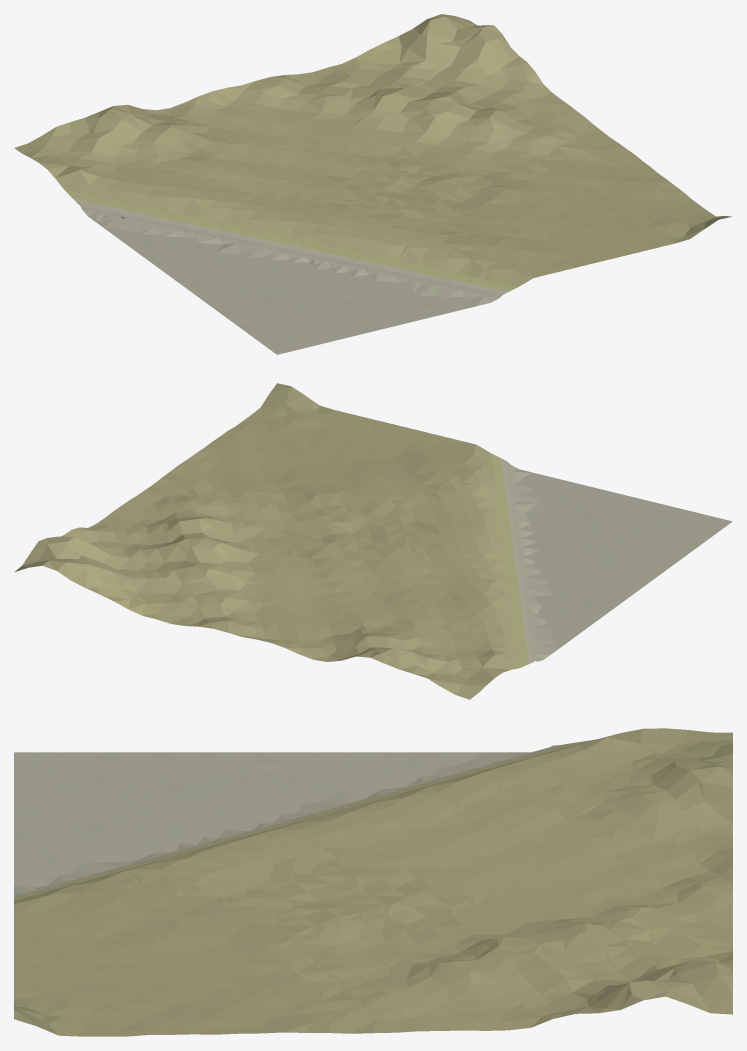
File: Ground_-3_-3.glb
3 views of the same model, one above another, from view 1: azimuth 30°, elevation 25°; view 2: azimuth 150°, elevation 25°; view 3: azimuth 270°, elevation 25° (orthographic). The views are drawn at different scales.
Parts seen in each view (by area): view 1: Ground_-3_-3; view 2: Ground_-3_-3; view 3: Ground_-3_-3.
Boxes of the visible parts, x1=… form: Ground_-3_-3: x1=14, y1=14, x2=731, y2=354; Ground_-3_-3: x1=14, y1=383, x2=732, y2=699; Ground_-3_-3: x1=14, y1=728, x2=732, y2=1036.
Bounding box in the file's own units: 768 × 75.29 × 768.
